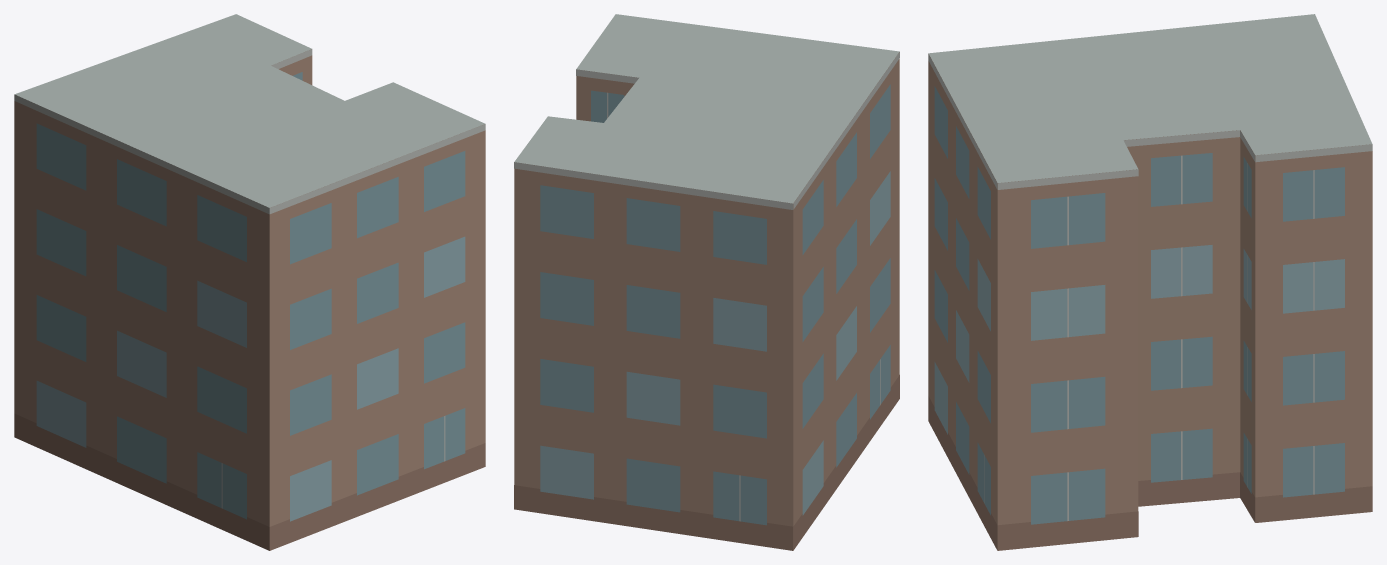
Rendered from survey-upis-32690553.glb.
3 renders of one model, left to right at view 1: azimuth 30°, elevation 25°; view 2: azimuth 150°, elevation 25°; view 3: azimuth 270°, elevation 25°, orthographic. The views are drawn at different scales.
Parts seen in each view (by area): view 1: survey-upis-32690553.tmp; view 2: survey-upis-32690553.tmp; view 3: survey-upis-32690553.tmp.
Part boxes in pixels (bbox=[...]): survey-upis-32690553.tmp: bbox=[14, 14, 485, 550]; survey-upis-32690553.tmp: bbox=[514, 14, 899, 550]; survey-upis-32690553.tmp: bbox=[928, 14, 1372, 550].
Size of the model in its own units: 12.73 by 12.9 by 14.13.
